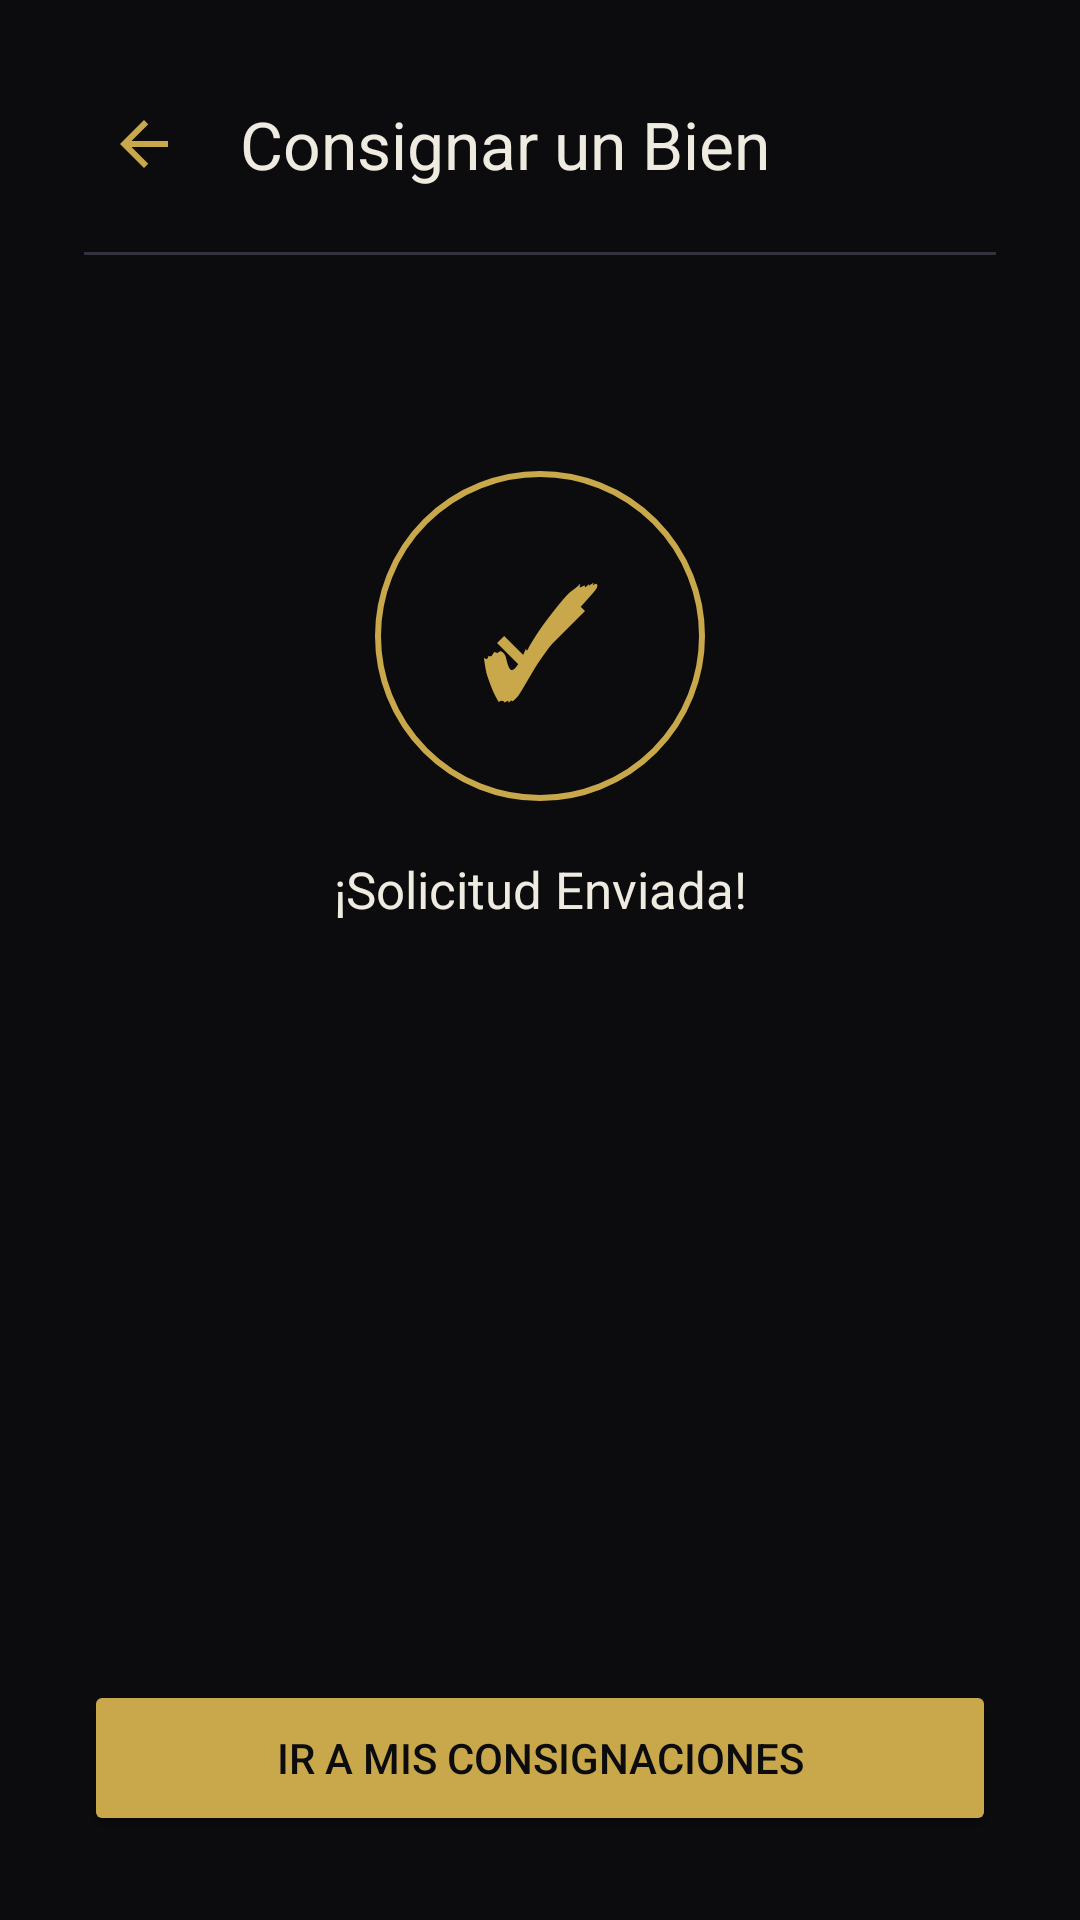

Screen size 1080 x 1920. Icon name, then its box in pixels as (x1, y1, x2, y2):
arrow back: (120, 120, 168, 168)
